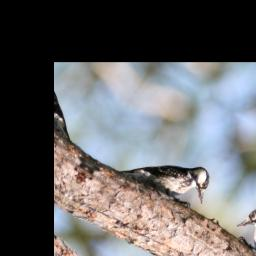Woodpecker: (115, 128, 220, 219)
